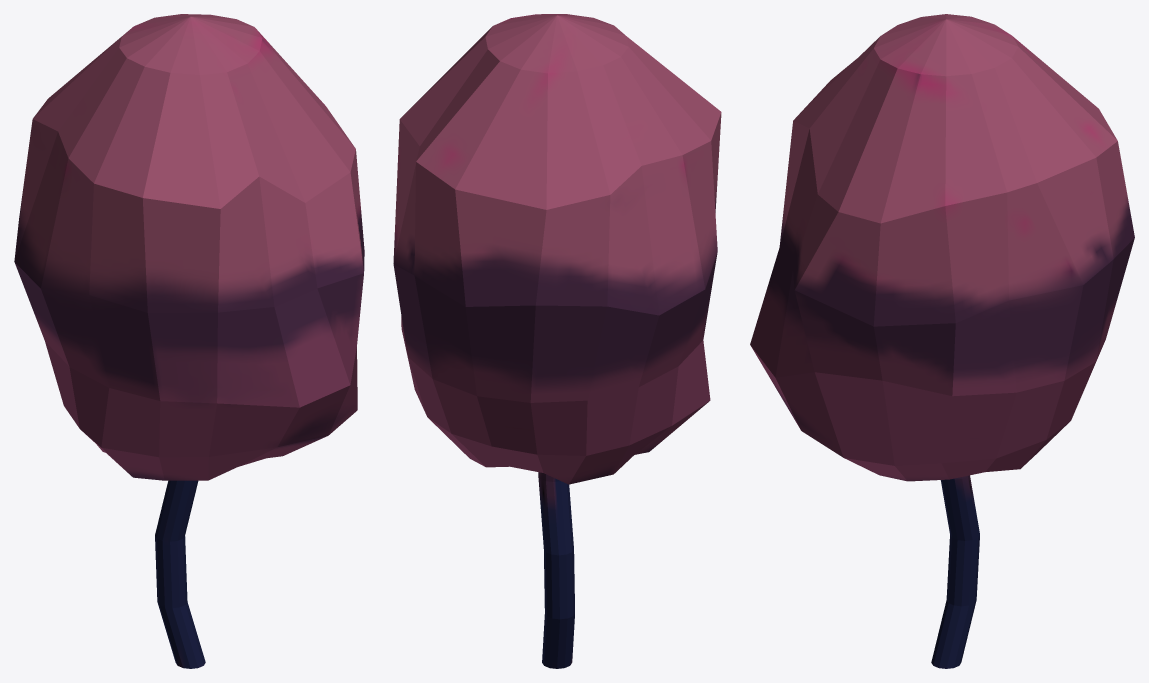
The model's file is tree_2.fbx.
The picture shows the model from 3 angles, left to right: view 1: azimuth 30°, elevation 25°; view 2: azimuth 150°, elevation 25°; view 3: azimuth 270°, elevation 25°; orthographic projection.
Visible parts, largest first — view 1: tree_medium.001; view 2: tree_medium.001; view 3: tree_medium.001.
Boxes of the visible parts, bbox=[...] form: tree_medium.001: bbox=[14, 14, 364, 668]; tree_medium.001: bbox=[393, 14, 721, 668]; tree_medium.001: bbox=[750, 14, 1134, 668].
Size of the model in its own units: 224 by 458 by 249.
